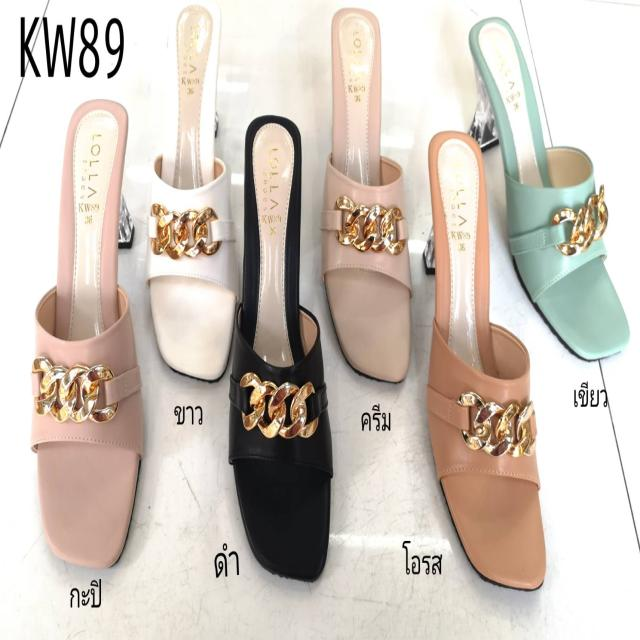black: (236, 112, 326, 582)
cream: (328, 6, 412, 379)
green: (469, 21, 626, 356)
kapi: (37, 102, 142, 563)
orot: (427, 134, 543, 590)
white: (148, 0, 233, 379)
